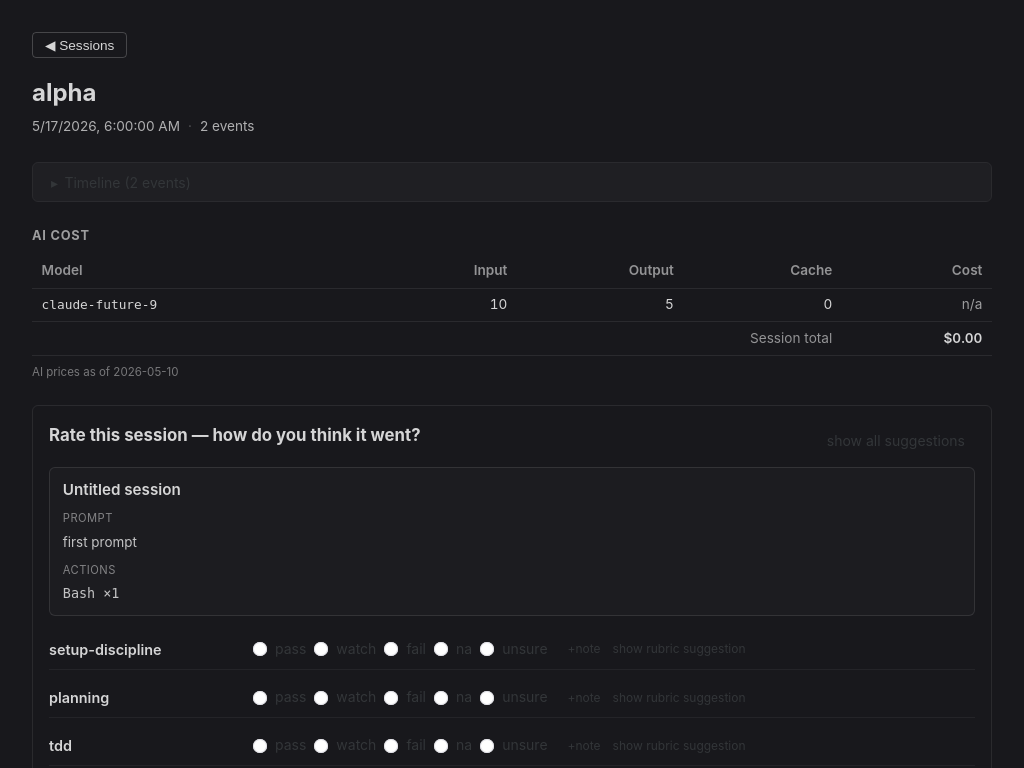
SessionDetailView › cost panel (v5-9) › renders an unpriced model as "n/a" with an explaining tooltip
Step 1. Hover over the text with test id "cost-unpriced-tip-claude-future-9" → (972, 304), box x1=962 y1=296 x2=982 y2=312
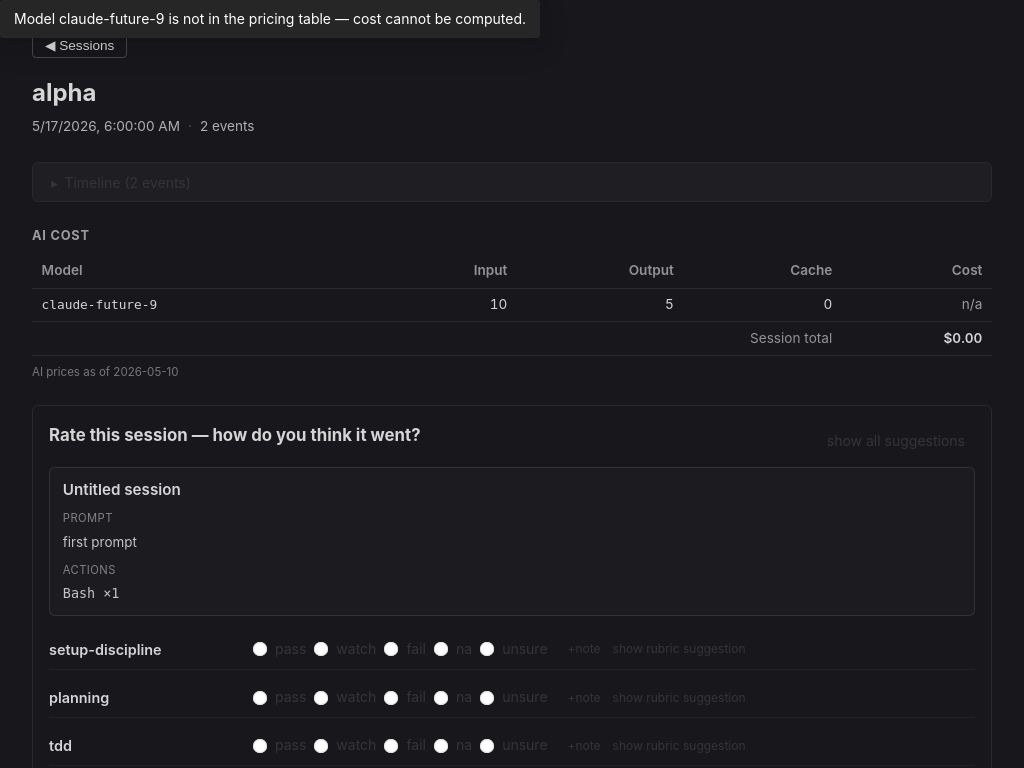
Expected: the text "claude-future-9" is shown, x1=32 y1=288 x2=380 y2=322
Result: the text "not in the pricing table" is shown at x1=14 y1=10 x2=526 y2=27
